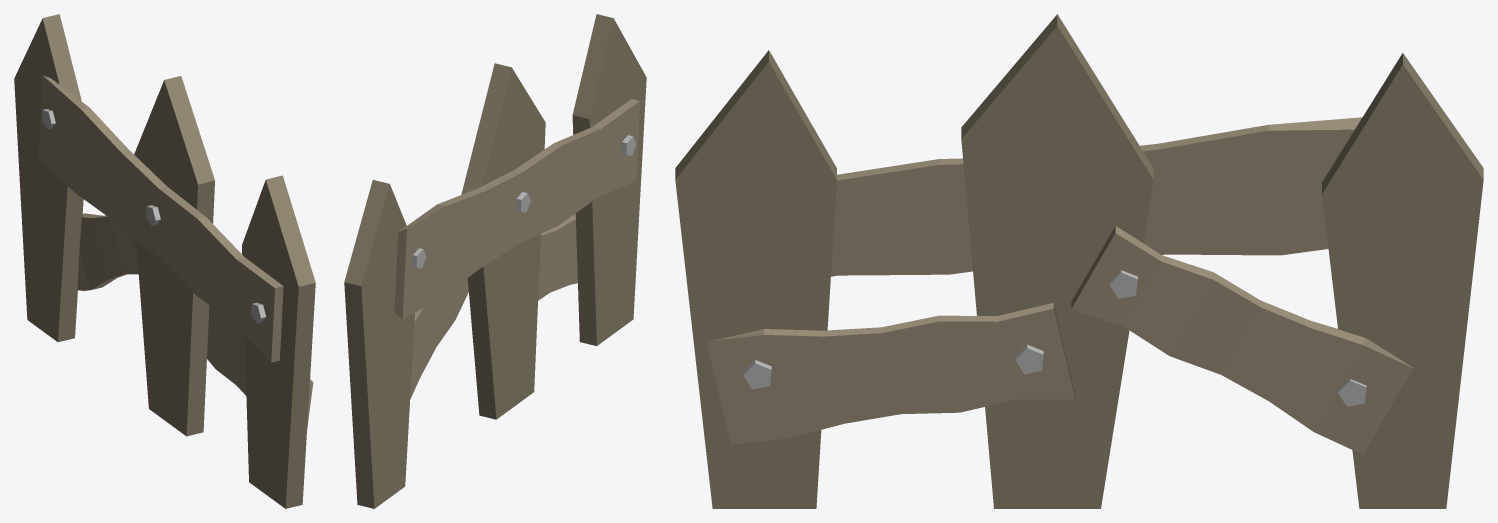
File: Fence_V7.fbx
3 renders of one model, left to right at view 1: azimuth 30°, elevation 25°; view 2: azimuth 150°, elevation 25°; view 3: azimuth 270°, elevation 25°, orthographic. The views are drawn at different scales.
Parts seen in each view (by area): view 1: Fence_v7; view 2: Fence_v7; view 3: Fence_v7.
Boxes of the visible parts, x1=… form: Fence_v7: x1=14, y1=14, x2=315, y2=508; Fence_v7: x1=344, y1=14, x2=646, y2=508; Fence_v7: x1=675, y1=14, x2=1483, y2=508.
Bounding box in the file's own units: 0.5274 × 3.81 × 5.78.
